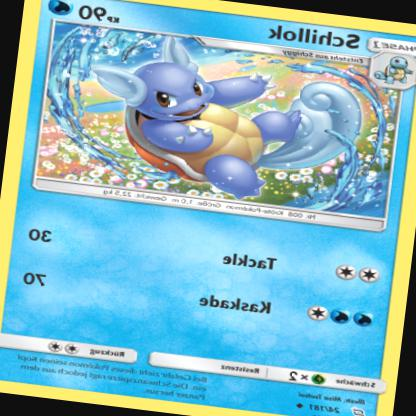Wartortle: (93, 37, 365, 211)
